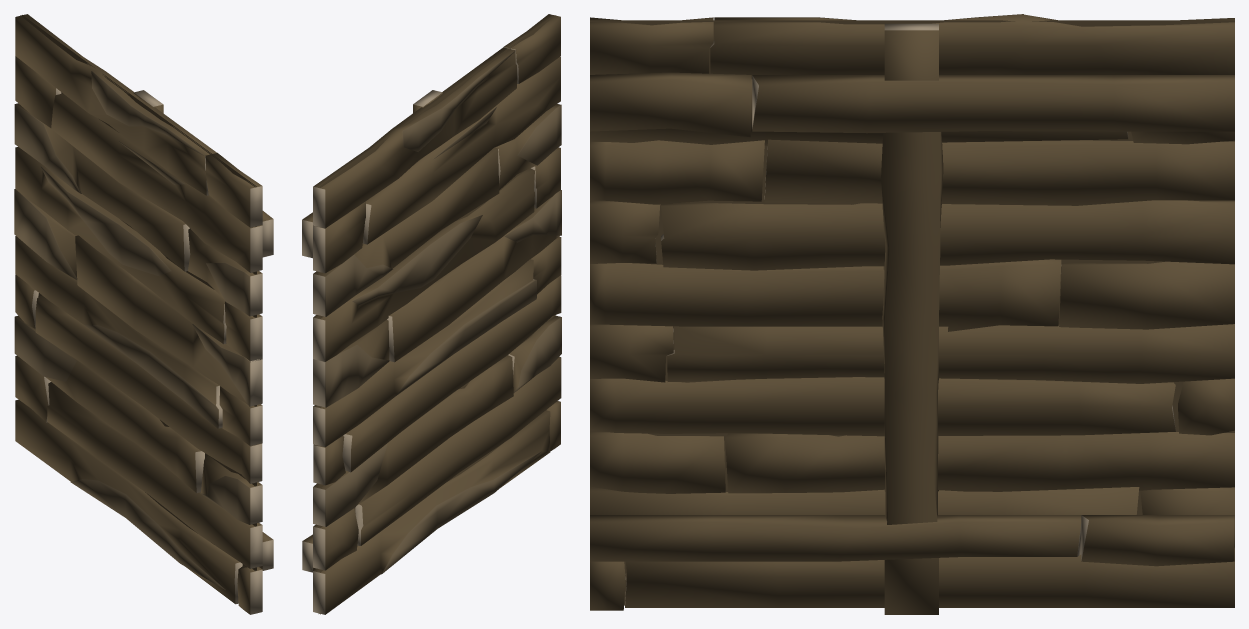
The model's file is SM_Polygonal_Wood_Wall.fbx.
3 renders of one model, left to right at view 1: azimuth 30°, elevation 25°; view 2: azimuth 150°, elevation 25°; view 3: azimuth 270°, elevation 25°, orthographic. The views are drawn at different scales.
Parts seen in each view (by area): view 1: SM_Polygonal_Wood_Wall_LOD0; view 2: SM_Polygonal_Wood_Wall_LOD0; view 3: SM_Polygonal_Wood_Wall_LOD0.
Boxes of the visible parts, x1=… form: SM_Polygonal_Wood_Wall_LOD0: x1=14, y1=14, x2=273, y2=614; SM_Polygonal_Wood_Wall_LOD0: x1=302, y1=14, x2=561, y2=614; SM_Polygonal_Wood_Wall_LOD0: x1=590, y1=14, x2=1234, y2=614.
Size of the model in its own units: 20.14 by 300 by 302.
Materials: 1 (1 with a texture image).
